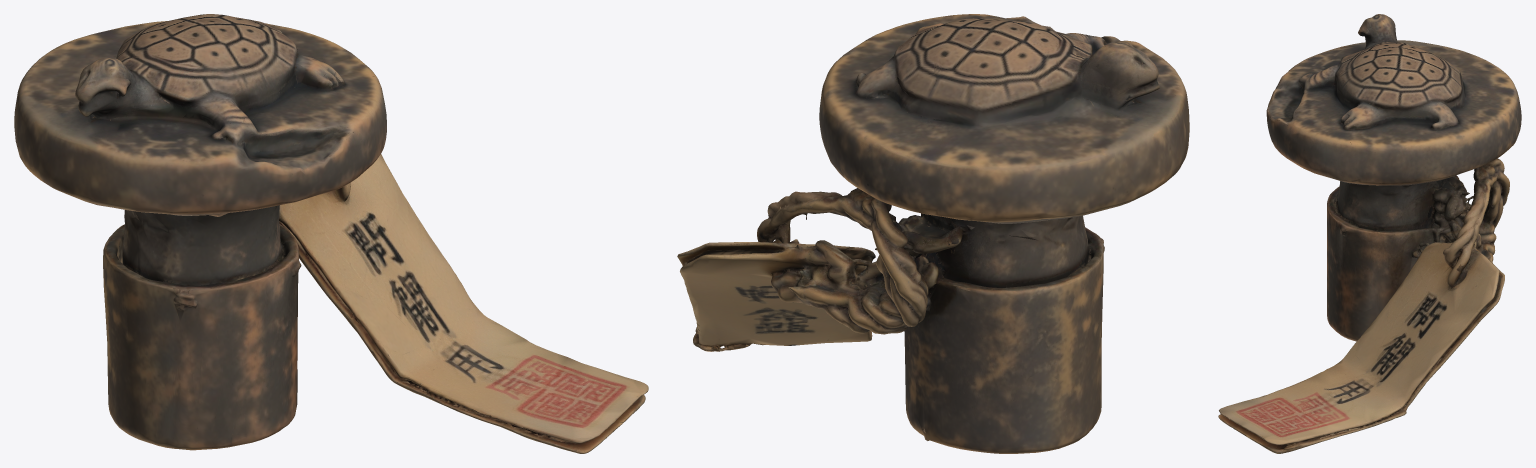
File: Meshy_AI_Turtle_Seal_Stamp_0822071018_texture.fbx
3 renders of one model, left to right at view 1: azimuth 30°, elevation 25°; view 2: azimuth 150°, elevation 25°; view 3: azimuth 270°, elevation 25°, orthographic. The views are drawn at different scales.
Parts seen in each view (by area): view 1: output_unwrapped; view 2: output_unwrapped; view 3: output_unwrapped.
Boxes of the visible parts, x1,y1,x2,y2 form: output_unwrapped: (14,14,648,453); output_unwrapped: (677,14,1189,453); output_unwrapped: (1218,14,1521,453).
Bounding box in the file's own units: 200 × 146 × 143.
1 material, 1 textured.
